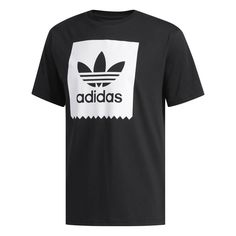adidas Originale: (73, 47, 131, 109)
